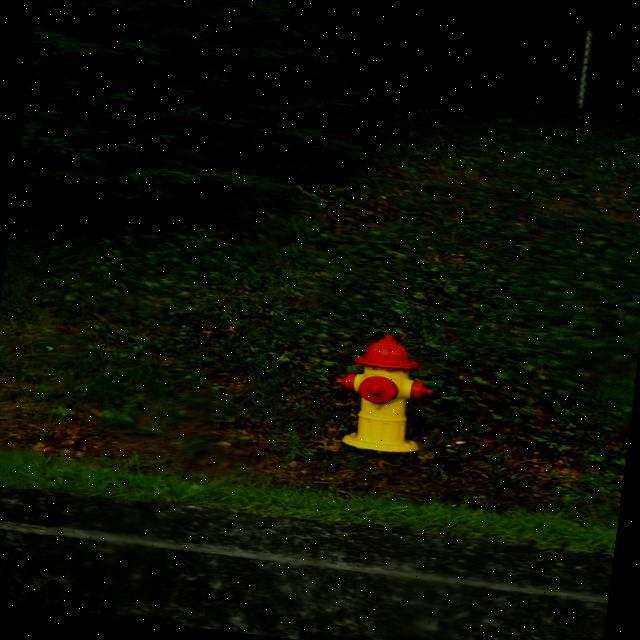fire_hydrant: (325, 328, 439, 458)
